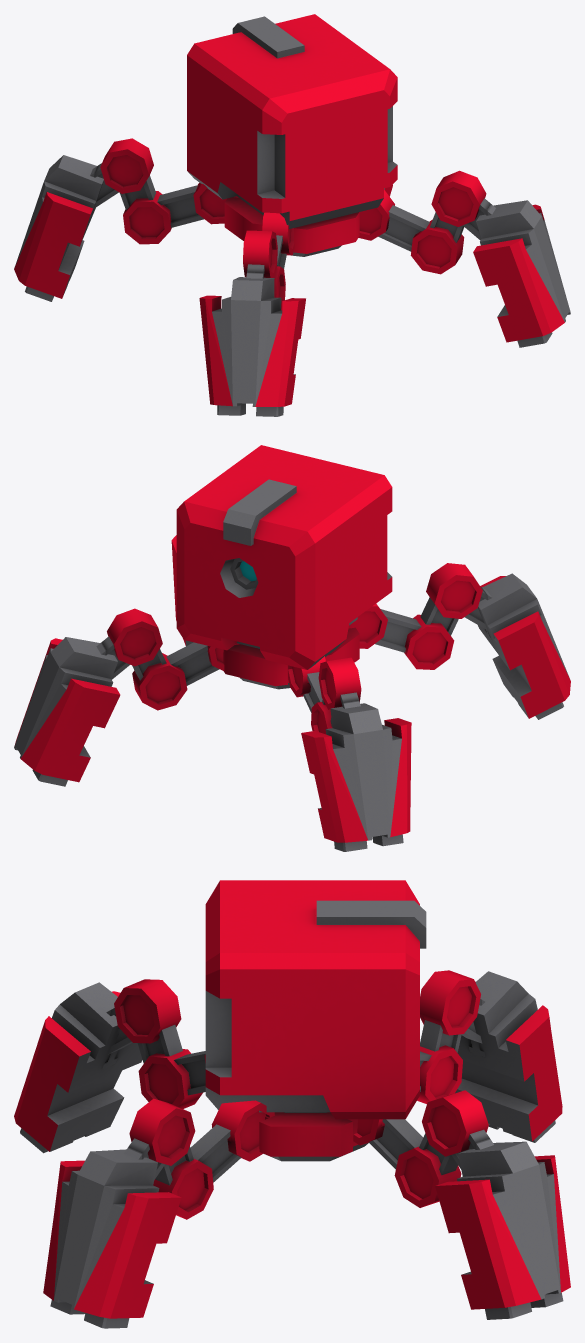
The model's file is Monster1_Idle7.obj.
3 renders of one model, top to bottom at view 1: azimuth 30°, elevation 25°; view 2: azimuth 150°, elevation 25°; view 3: azimuth 270°, elevation 25°, orthographic. The views are drawn at different scales.
Parts seen in each view (by area): view 1: Box006, Object021, Object017, Object025, Object028, Object020, Object027, Object019, Object018, Object026, Object024, Object022; view 2: Box006, Object025, Object013, Object021, Object016, Object024, Object023, Object015, Object022, Object028, Object014, Object026 (+1 smaller); view 3: Box006, Object017, Object013, Object021, Object025, Object018, Object024, Object016, Object020, Object028, Object023, Object015 (+4 smaller).
Part boxes in pixels (<box>): Box006: <box>187,14,397,256</box>; Object021: <box>199,277,305,416</box>; Object017: <box>473,200,570,347</box>; Object025: <box>14,155,103,301</box>; Object028: <box>90,138,153,208</box>; Object020: <box>431,170,495,240</box>; Object027: <box>120,175,171,244</box>; Object019: <box>410,212,464,274</box>; Object018: <box>358,189,429,251</box>; Object026: <box>157,182,238,227</box>; Object024: <box>243,230,277,278</box>; Object022: <box>262,212,294,268</box>; Box006: <box>176,445,392,689</box>; Object025: <box>301,703,411,851</box>; Object013: <box>14,637,120,786</box>; Object021: <box>478,573,570,719</box>; Object016: <box>96,608,162,679</box>; Object024: <box>426,563,491,630</box>; Object023: <box>404,597,458,669</box>; Object015: <box>132,649,187,710</box>; Object022: <box>348,603,421,652</box>; Object028: <box>318,657,361,709</box>; Object014: <box>166,642,239,685</box>; Object026: <box>288,656,325,712</box>; Box006: <box>205,880,426,1161</box>; Object017: <box>43,1149,181,1328</box>; Object013: <box>435,1141,570,1319</box>; Object021: <box>14,982,142,1153</box>; Object025: <box>455,971,562,1142</box>; Object018: <box>190,1100,274,1182</box>; Object024: <box>106,979,181,1054</box>; Object016: <box>422,1090,493,1169</box>; Object020: <box>124,1098,195,1179</box>; Object028: <box>420,970,484,1043</box>; Object023: <box>137,1025,203,1108</box>; Object015: <box>394,1133,461,1207</box>.
Bounding box in the file's own units: 151 × 97.15 × 153.
